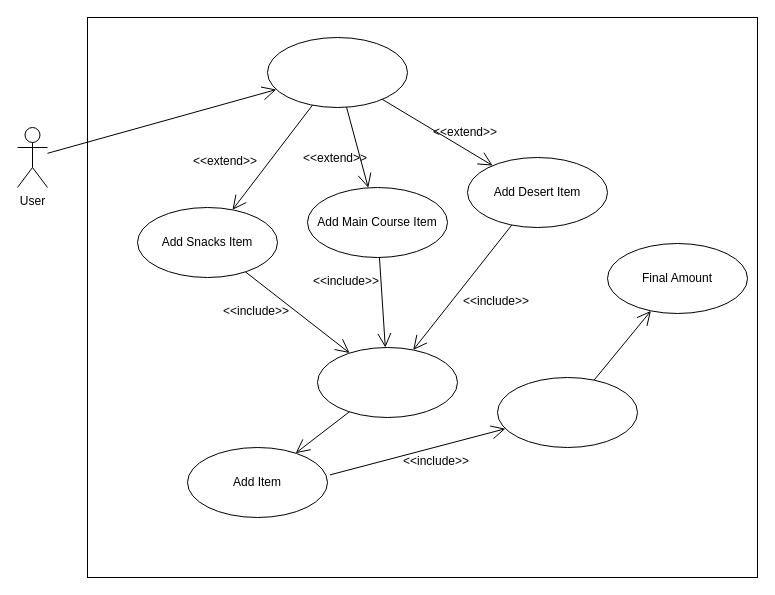
Some shapes in this 775 by 595 pixel diagram are drawn without their labels. Each missing label, with the centre of its shape:
"Choose Item" goes at point 387,382.
"Choose Quantity" goes at point 567,412.
"Food Menu" goes at point 337,72.
